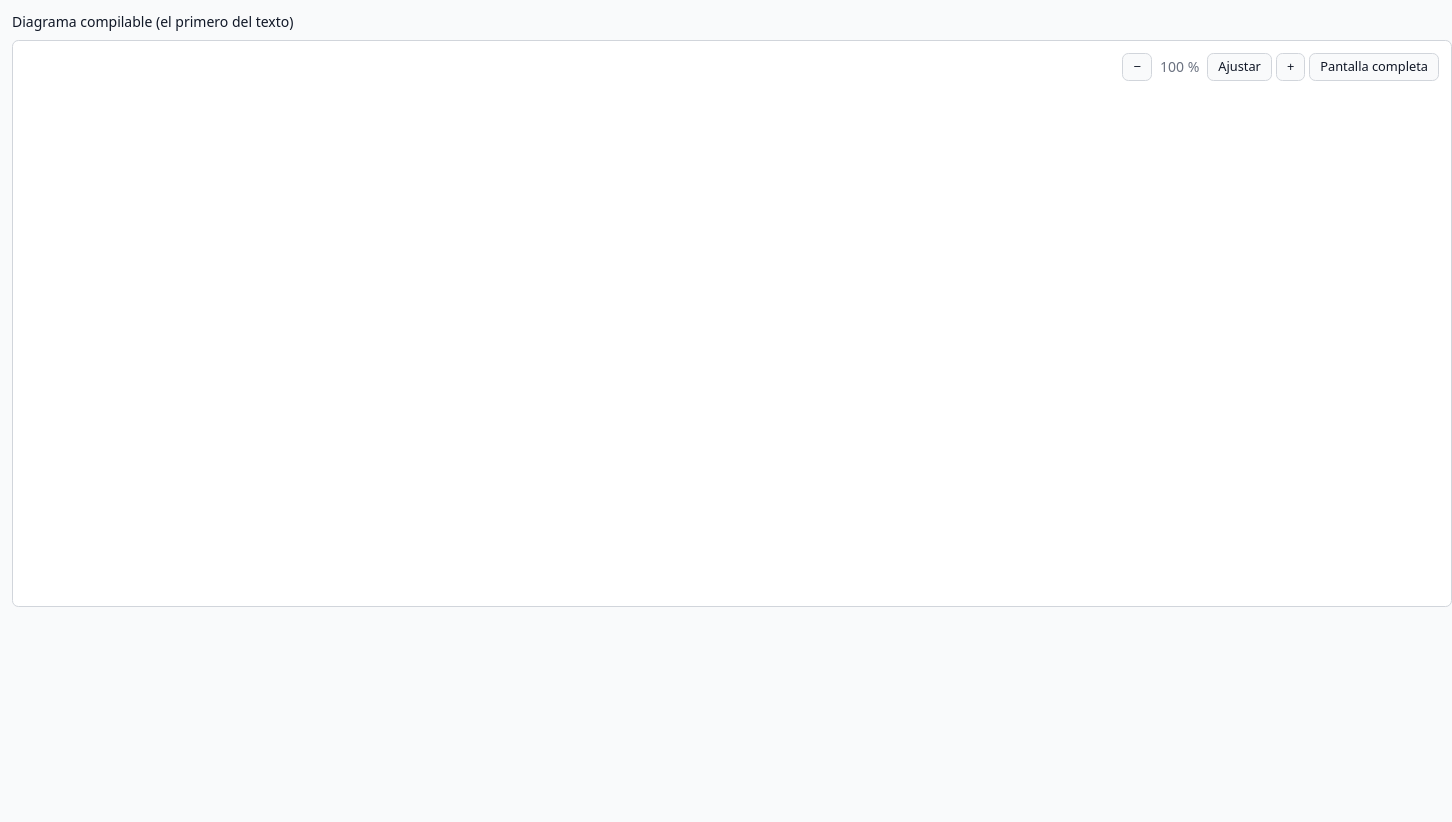
Test: en pantalla completa el boton pasa a «Salir» y al salir vuelve
Click the button "Pantalla completa": {"x": 1374, "y": 67} [1309, 53, 1439, 81]
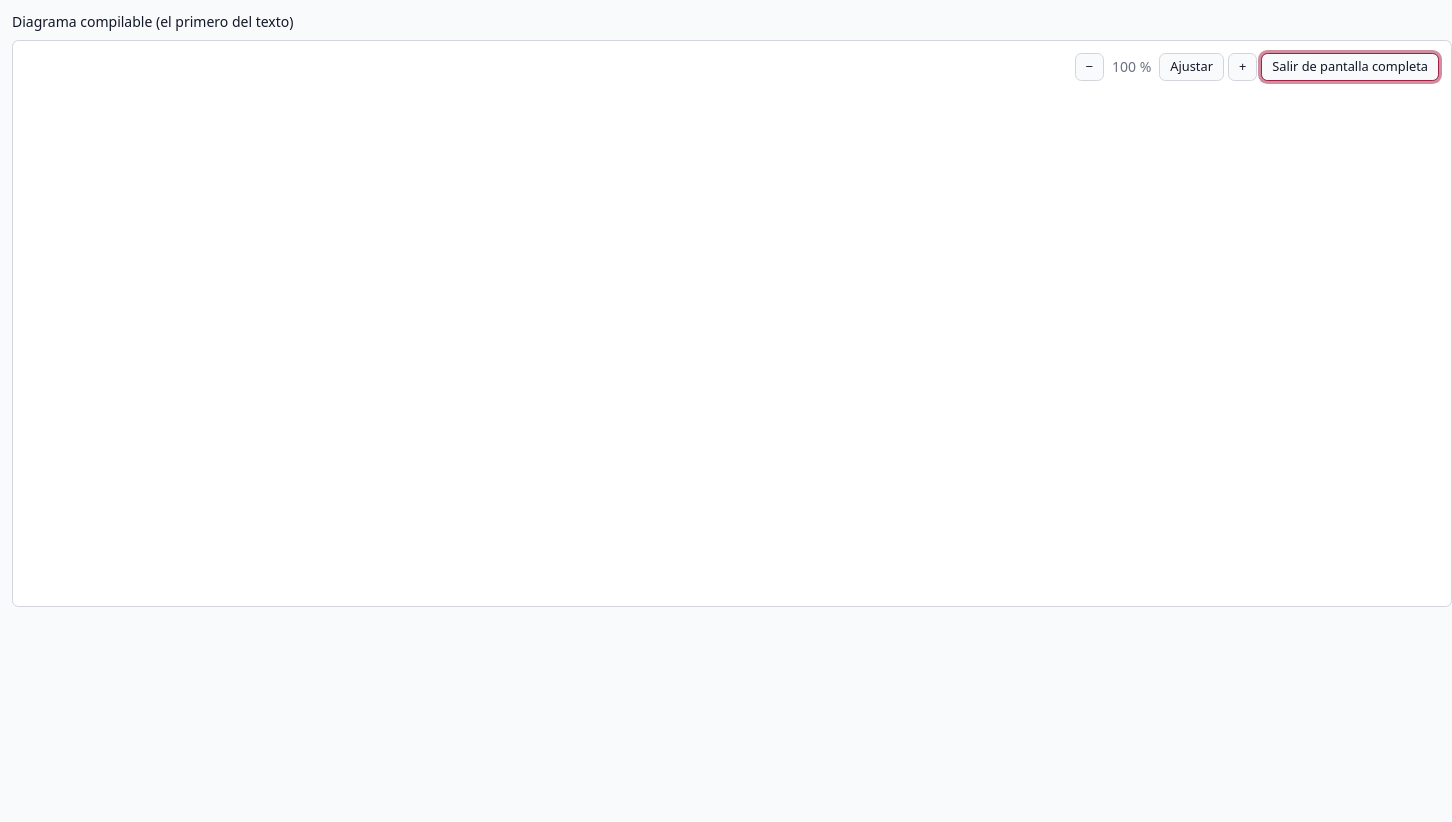
Click the button "Salir de pantalla completa": {"x": 1350, "y": 67} [1261, 53, 1439, 81]
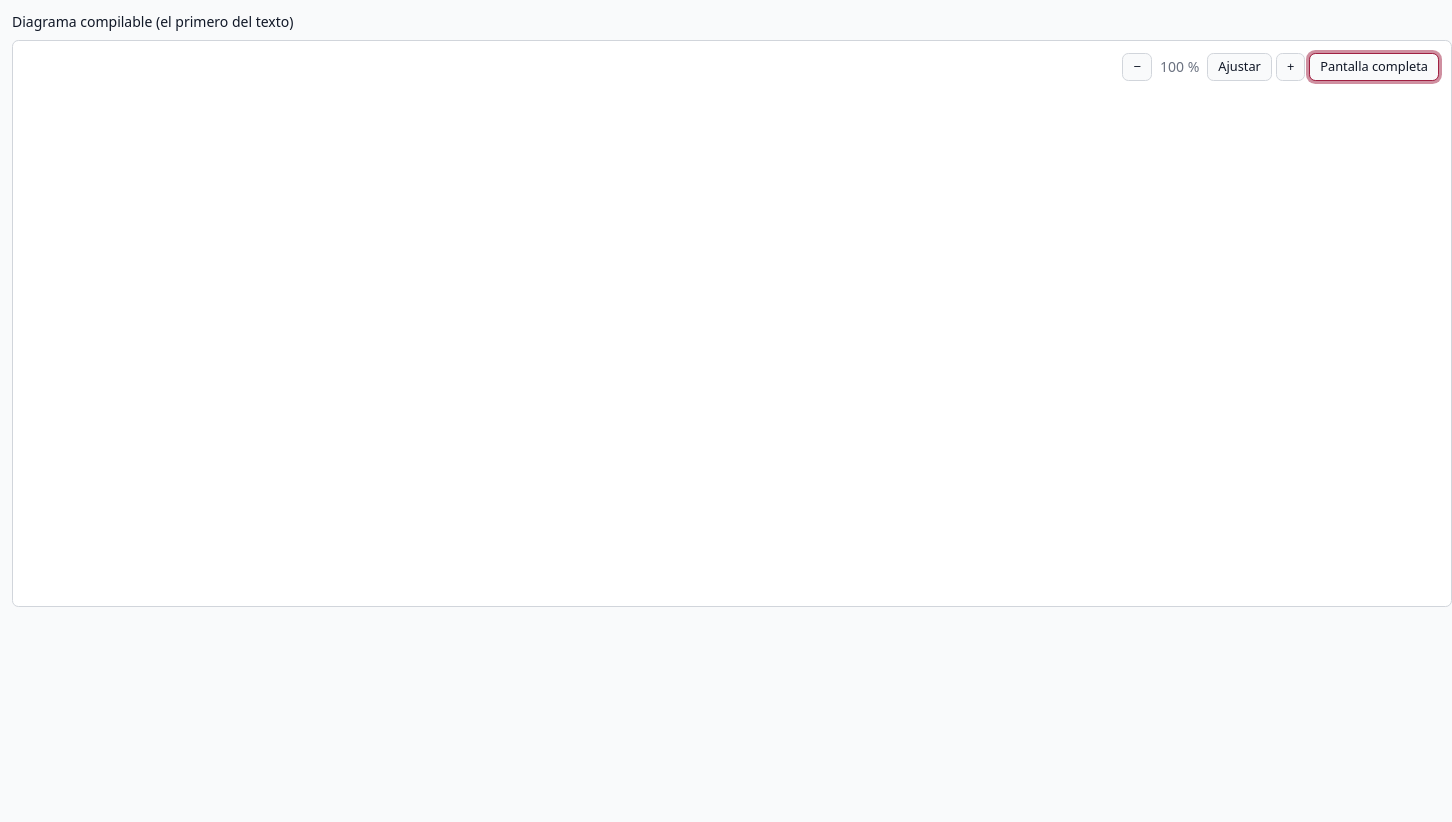
Result: the button "Pantalla completa" is shown at [1309, 53, 1439, 81]
